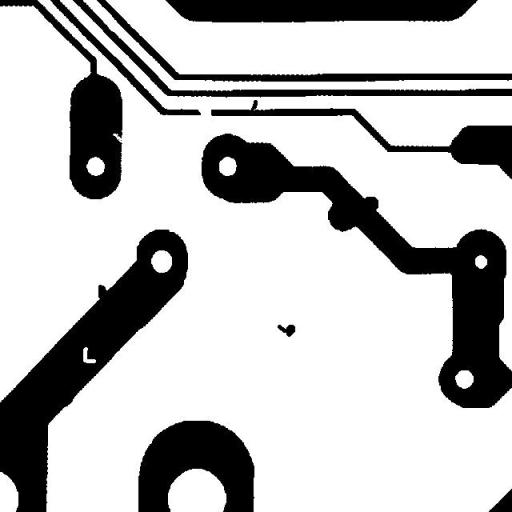copper: (270, 317, 302, 344)
mousebite: (105, 126, 132, 150)
open: (190, 100, 218, 126)
pin-hole: (75, 340, 103, 370)
spur: (355, 189, 386, 218), (90, 276, 114, 306), (243, 92, 265, 120)
